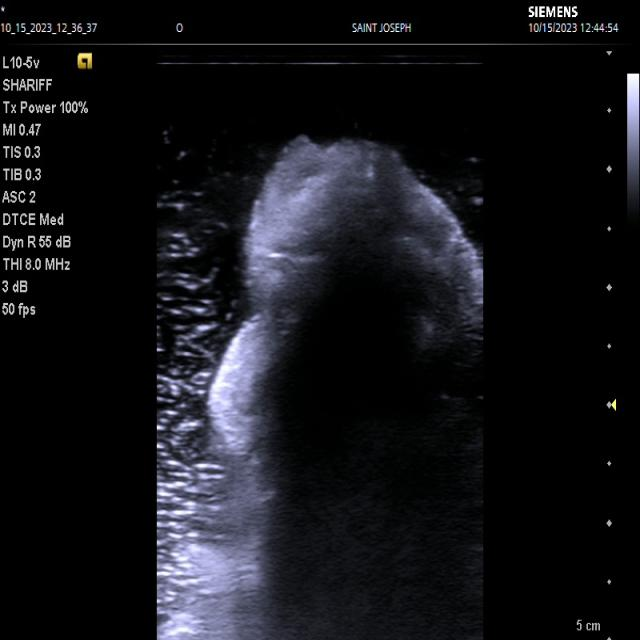tissue: (210, 138, 485, 488)
